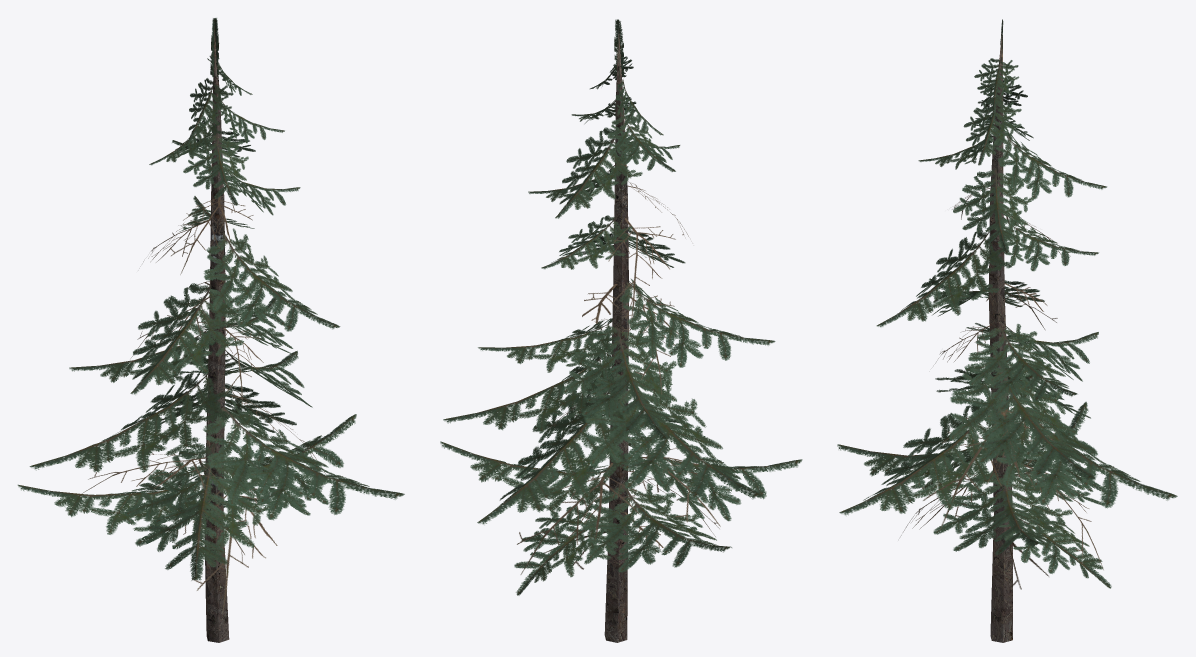
File: pine_tree_01_a.glb
3 renders of one model, left to right at view 1: azimuth 30°, elevation 25°; view 2: azimuth 150°, elevation 25°; view 3: azimuth 270°, elevation 25°, orthographic.
Parts seen in each view (by area): view 1: pine_tree_01_a; view 2: pine_tree_01_a; view 3: pine_tree_01_a.
Part boxes in pixels (x1,y1,x2,y2): pine_tree_01_a: [17, 18, 404, 642]; pine_tree_01_a: [440, 19, 802, 642]; pine_tree_01_a: [837, 19, 1177, 642].
Size of the model in its own units: 3.76 by 6.76 by 3.43.
2 materials, 2 textured.
